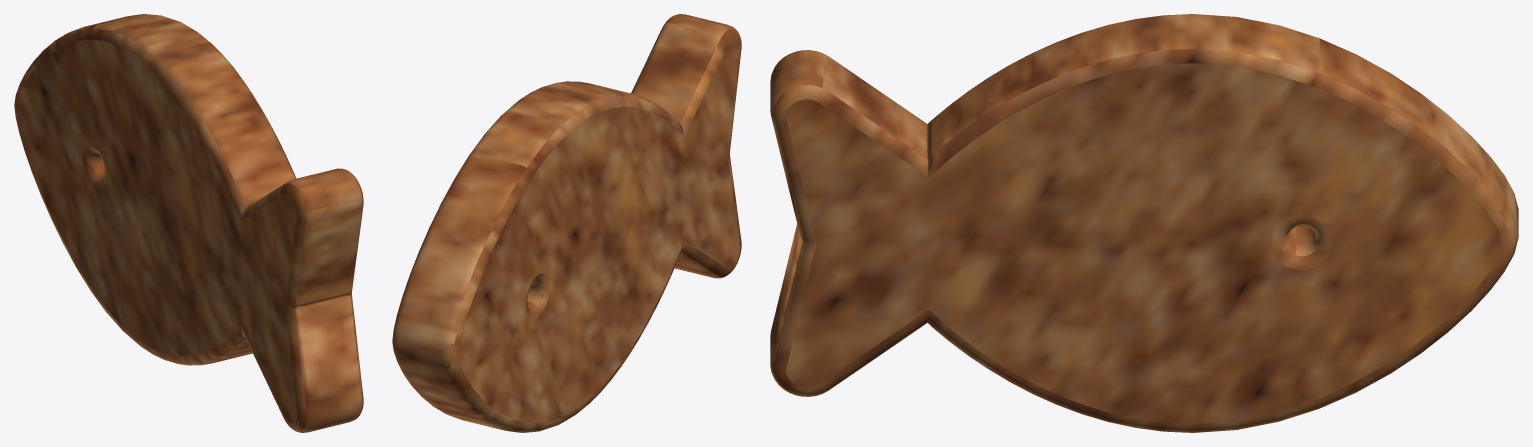
The model's file is CatAmmo 1.fbx.
3 views of the same model, side by side, from view 1: azimuth 30°, elevation 25°; view 2: azimuth 150°, elevation 25°; view 3: azimuth 270°, elevation 25° (orthographic). The views are drawn at different scales.
Parts seen in each view (by area): view 1: CatAmmo; view 2: CatAmmo; view 3: CatAmmo.
Part boxes in pixels (left/top/right/bottom): CatAmmo: left=14, top=14, right=363, bottom=432; CatAmmo: left=392, top=14, right=741, bottom=432; CatAmmo: left=770, top=14, right=1518, bottom=432.
Size of the model in its own units: 2.76 by 12.45 by 21.7.
Materials: 1 (1 with a texture image).
